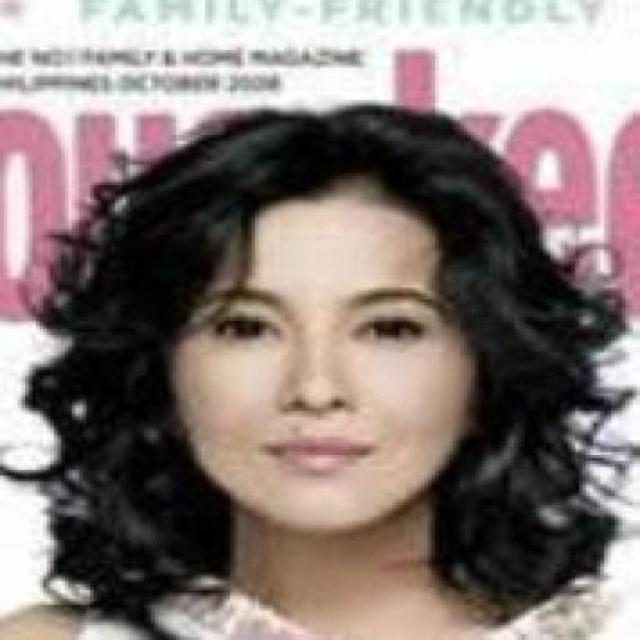bareface: (154, 185, 468, 524)
